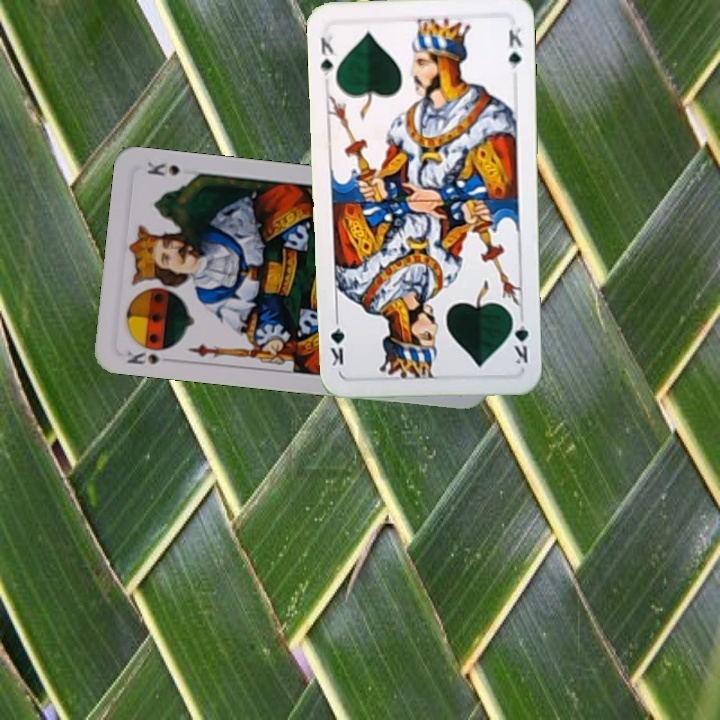GK: (508, 310, 531, 367), (316, 27, 337, 80)
SK: (123, 340, 177, 367)
